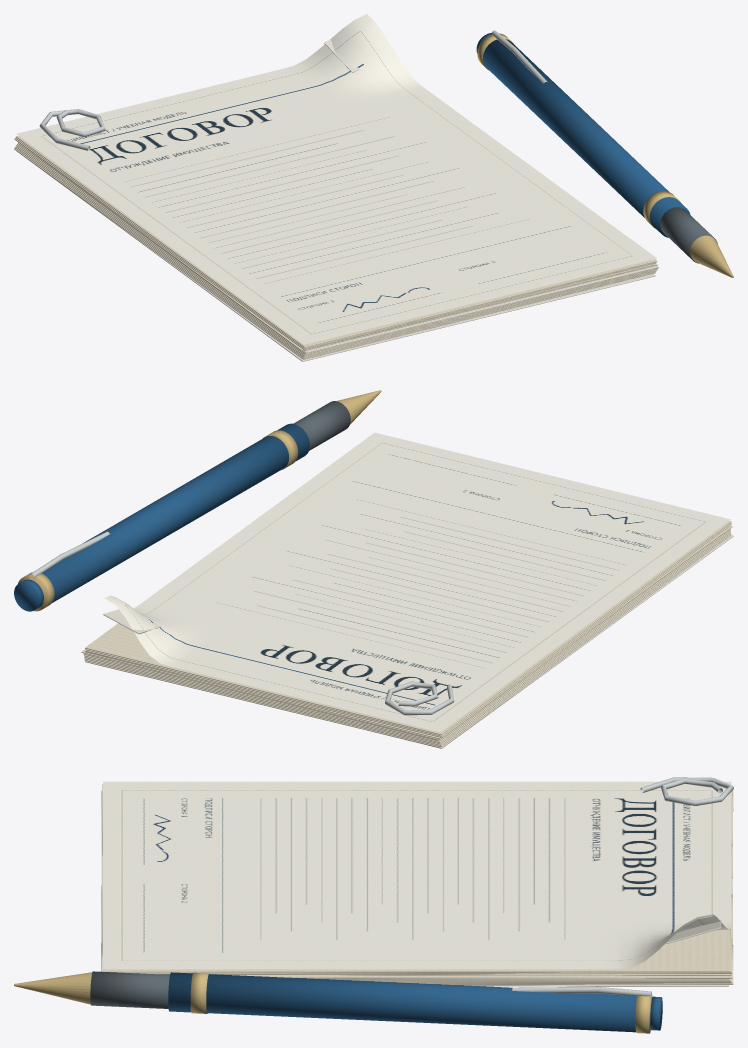
File: sale-contract.glb
3 views of the same model, one above another, from view 1: azimuth 30°, elevation 25°; view 2: azimuth 150°, elevation 25°; view 3: azimuth 270°, elevation 25° (orthographic). The views are drawn at different scales.
Visible parts, largest first — view 1: Signed contract sheet with curled corner, Blue enamel barrel, Individual A4 leaf 13, Individual A4 leaf 01, Graphite grip, Individual A4 leaf 02, Individual A4 leaf 12, Individual A4 leaf 11, Individual A4 leaf 04, Individual A4 leaf 06, Individual A4 leaf 03, Individual A4 leaf 05 (+5 smaller); view 2: Signed contract sheet with curled corner, Blue enamel barrel, Individual A4 leaf 13, Graphite grip, Individual A4 leaf 10, Individual A4 leaf 12, Individual A4 leaf 03, Individual A4 leaf 06, Individual A4 leaf 04, Individual A4 leaf 05, Individual A4 leaf 02, Individual A4 leaf 11 (+5 smaller); view 3: Signed contract sheet with curled corner, Blue enamel barrel, Individual A4 leaf 13, Graphite grip, Individual A4 leaf 09, Tapered writing nib, Steel paperclip, Individual A4 leaf 08, Individual A4 leaf 10, Individual A4 leaf 12, Individual A4 leaf 11, Pen pocket clip (+10 smaller).
Boxes of the visible parts, x1,y1,x2,y2 form: Signed contract sheet with curled corner: [16, 14, 656, 344]; Blue enamel barrel: [483, 39, 690, 237]; Individual A4 leaf 13: [16, 135, 657, 347]; Individual A4 leaf 01: [16, 151, 655, 361]; Graphite grip: [660, 207, 717, 263]; Individual A4 leaf 02: [14, 148, 655, 359]; Individual A4 leaf 12: [15, 137, 656, 348]; Individual A4 leaf 11: [14, 138, 655, 349]; Individual A4 leaf 04: [15, 146, 656, 357]; Individual A4 leaf 06: [17, 143, 657, 355]; Individual A4 leaf 03: [14, 147, 655, 358]; Individual A4 leaf 05: [16, 145, 656, 356]; Signed contract sheet with curled corner: [104, 432, 730, 732]; Blue enamel barrel: [42, 423, 309, 602]; Individual A4 leaf 13: [85, 521, 731, 734]; Graphite grip: [293, 401, 350, 450]; Individual A4 leaf 10: [85, 525, 732, 739]; Individual A4 leaf 12: [85, 522, 731, 736]; Individual A4 leaf 03: [84, 533, 730, 746]; Individual A4 leaf 06: [84, 529, 730, 742]; Individual A4 leaf 04: [84, 532, 730, 745]; Individual A4 leaf 05: [84, 530, 730, 744]; Individual A4 leaf 02: [85, 534, 730, 748]; Individual A4 leaf 11: [85, 524, 731, 737]; Signed contract sheet with curled corner: [103, 781, 731, 969]; Blue enamel barrel: [168, 972, 636, 1032]; Individual A4 leaf 13: [102, 784, 730, 972]; Graphite grip: [90, 971, 169, 1008]; Individual A4 leaf 09: [232, 790, 733, 978]; Tapered writing nib: [14, 972, 92, 1004]; Steel paperclip: [640, 777, 733, 805]; Individual A4 leaf 08: [101, 791, 728, 979]; Individual A4 leaf 10: [217, 790, 732, 975]; Individual A4 leaf 12: [117, 924, 731, 973]; Individual A4 leaf 11: [140, 844, 732, 974]; Pen pocket clip: [512, 986, 651, 997].
Bounding box in the file's own units: 1.62 × 0.2004 × 2.02.
7 materials, 2 textured.
